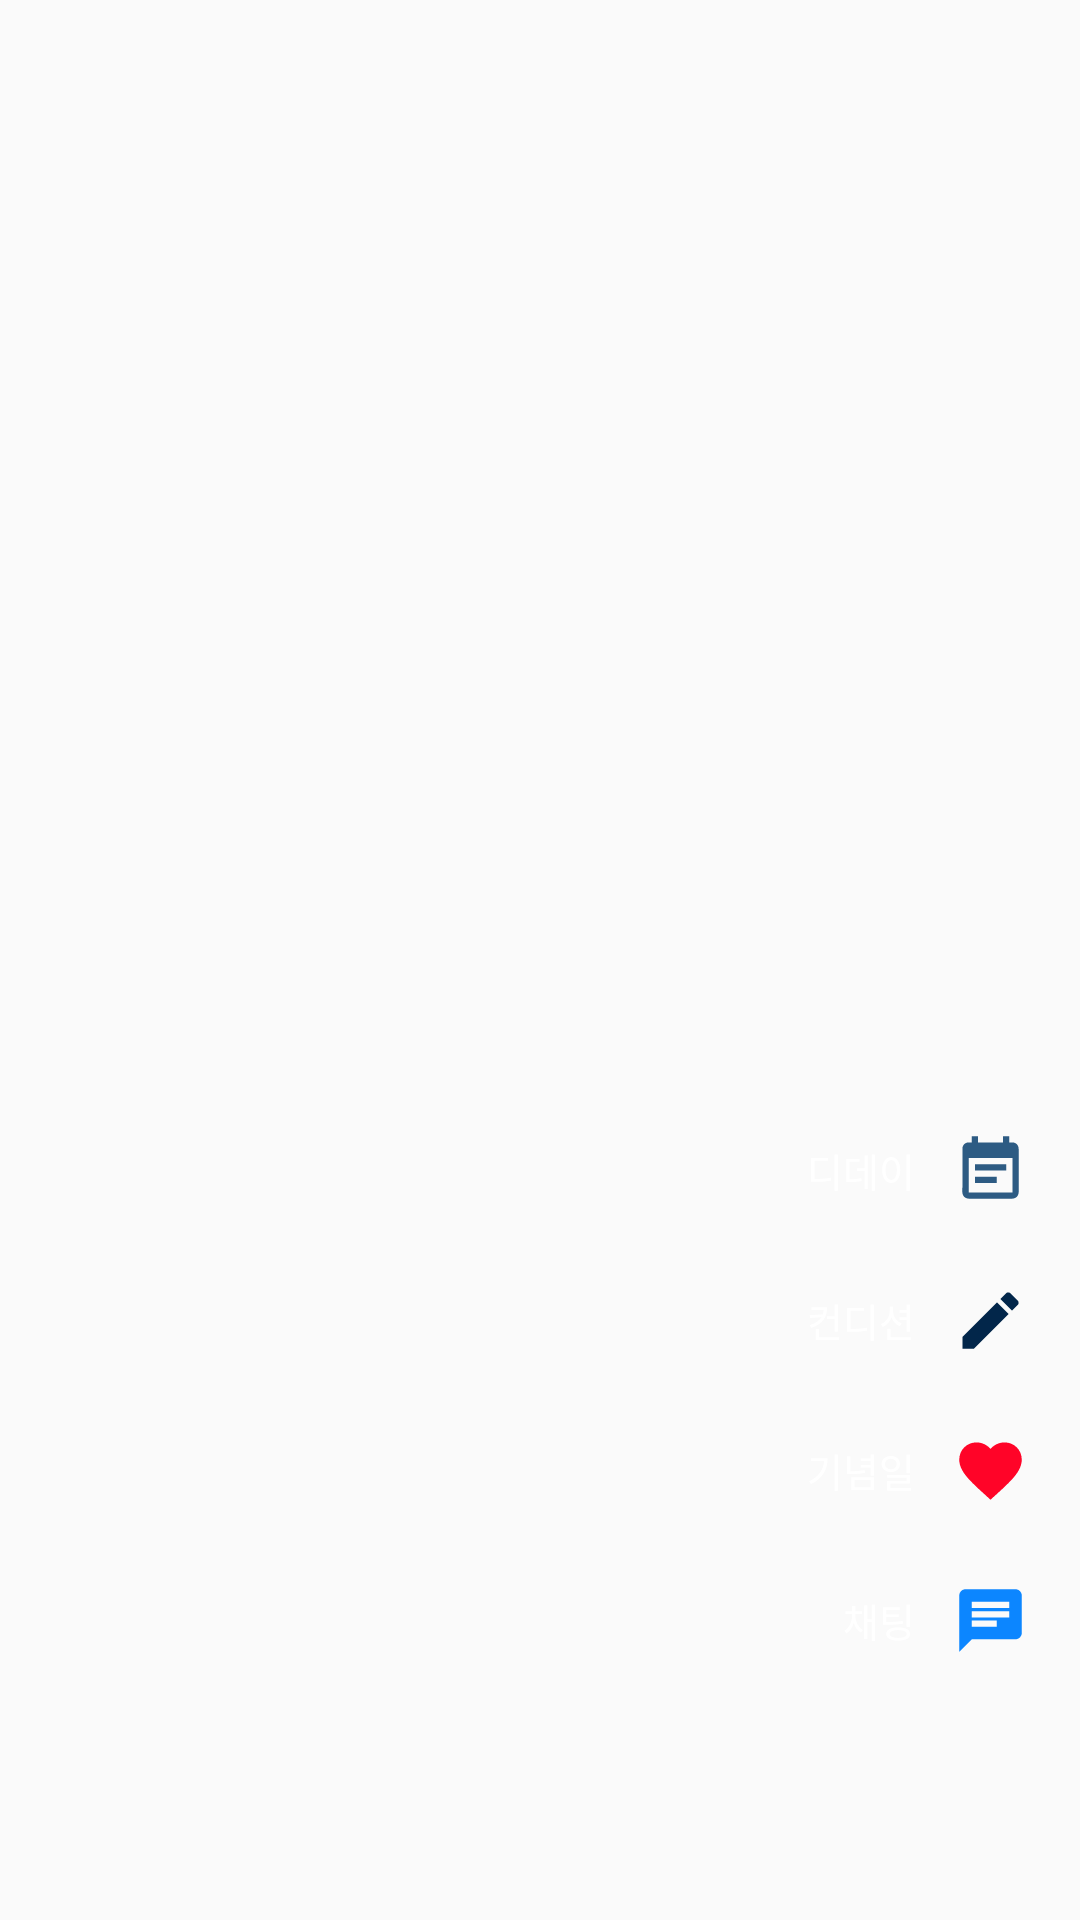

Named icons in this screenshot (1080 × 1920) and their centers, [x,y]:
calendar: [990,1167]
chat: [990,1620]
heart: [990,1471]
pen: [990,1320]
